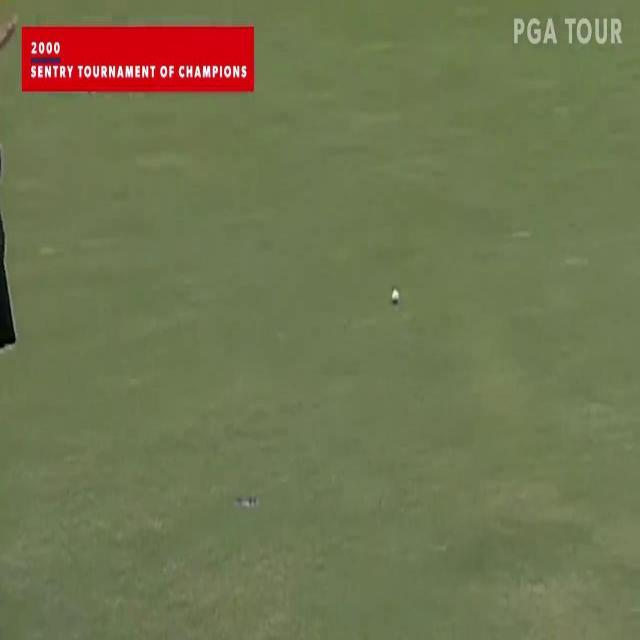GolfBall: (386, 280, 406, 314)
